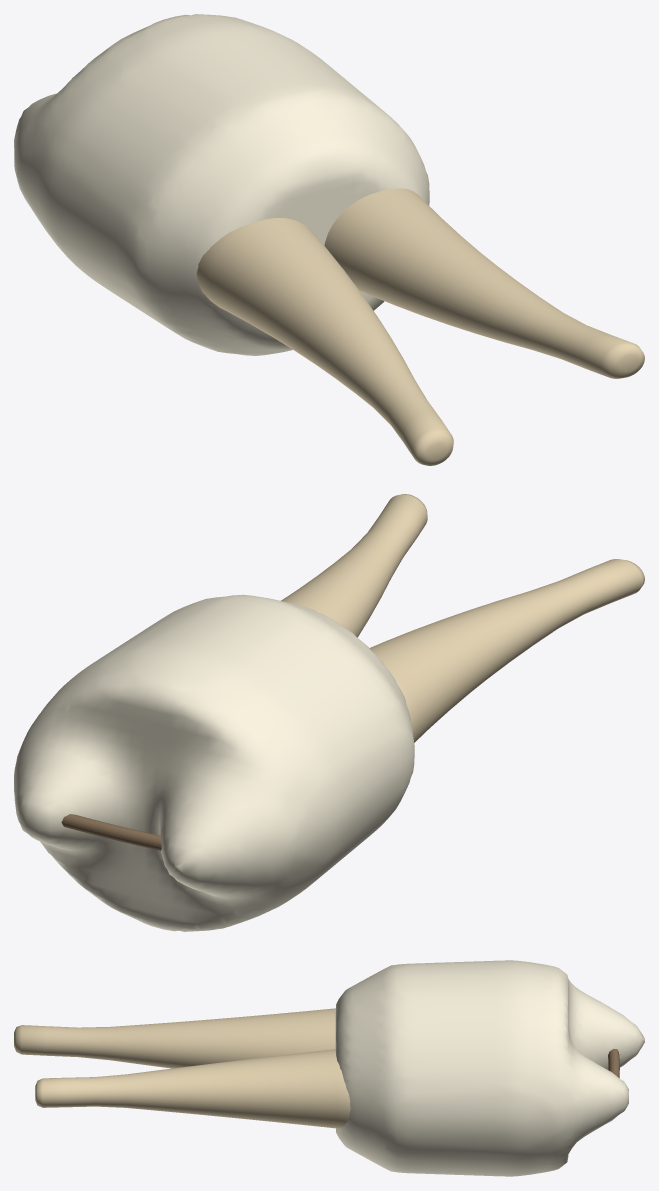
File: first-premolar.glb
The picture shows the model from 3 angles, top to bottom: view 1: azimuth 30°, elevation 25°; view 2: azimuth 150°, elevation 25°; view 3: azimuth 270°, elevation 25°; orthographic projection. The views are drawn at different scales.
Visible parts, largest first — view 1: Crown_Anatomical.003, Root_1.003, Root_2; view 2: Crown_Anatomical.003, Root_1.003, Root_2, Central_Groove; view 3: Crown_Anatomical.003, Root_2, Root_1.003.
Part boxes in pixels (x1,y1,x2,y2): Crown_Anatomical.003: (14,14,429,355); Root_1.003: (196,218,453,465); Root_2: (324,188,644,378); Crown_Anatomical.003: (14,594,414,931); Root_1.003: (370,559,644,742); Root_2: (281,494,427,637); Central_Groove: (61,814,161,850); Crown_Anatomical.003: (335,960,644,1176); Root_2: (35,1049,350,1128); Root_1.003: (14,1008,335,1068).
Bounding box in the file's own units: 0.8232 × 0.6765 × 2.
